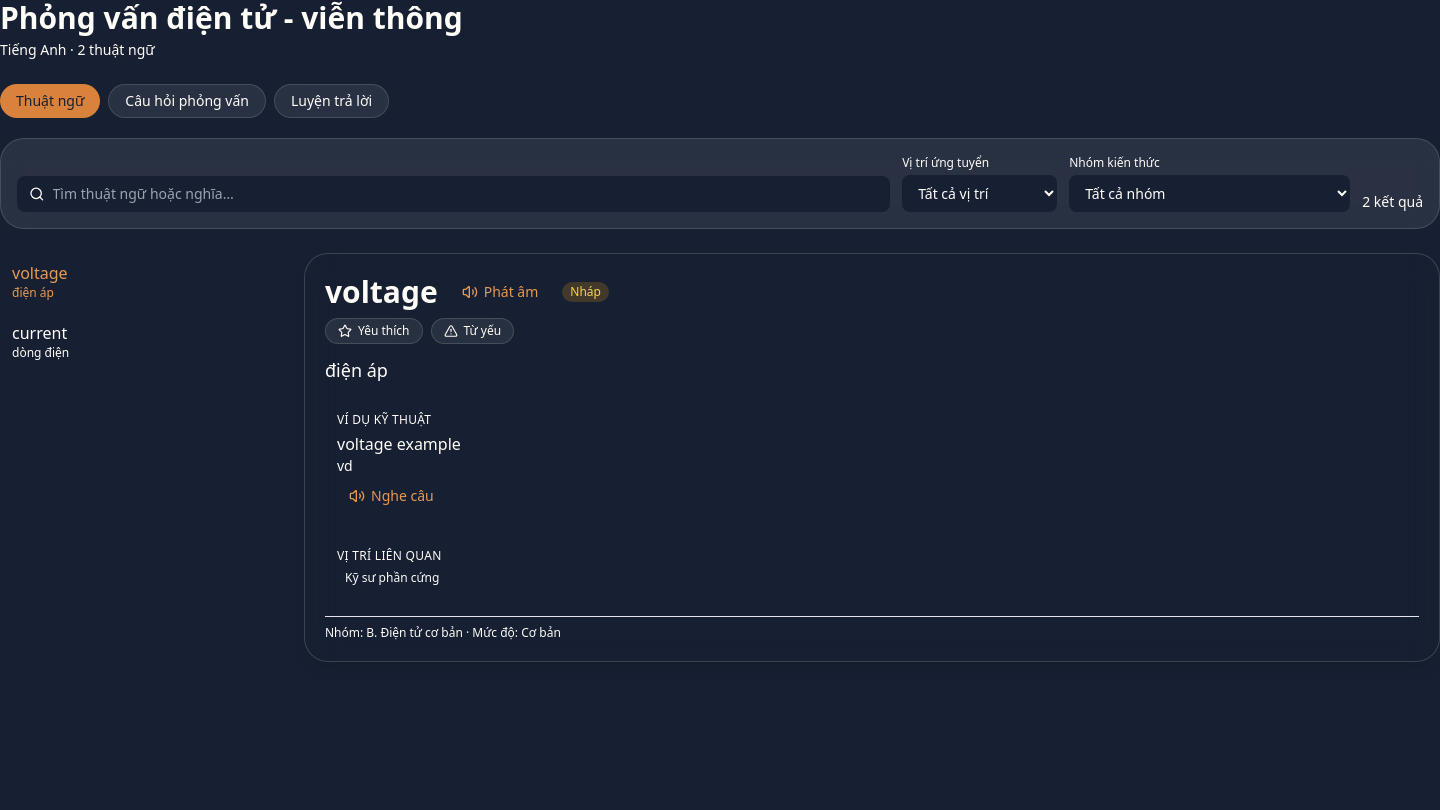
Scenario: InterviewPage — 3 tab (P1.8) › tab Câu hỏi phỏng vấn hiển thị ngân hàng câu hỏi
Click the tab "Câu hỏi phỏng vấn".
click(187, 101)  # box left=108, top=84, right=266, bottom=118
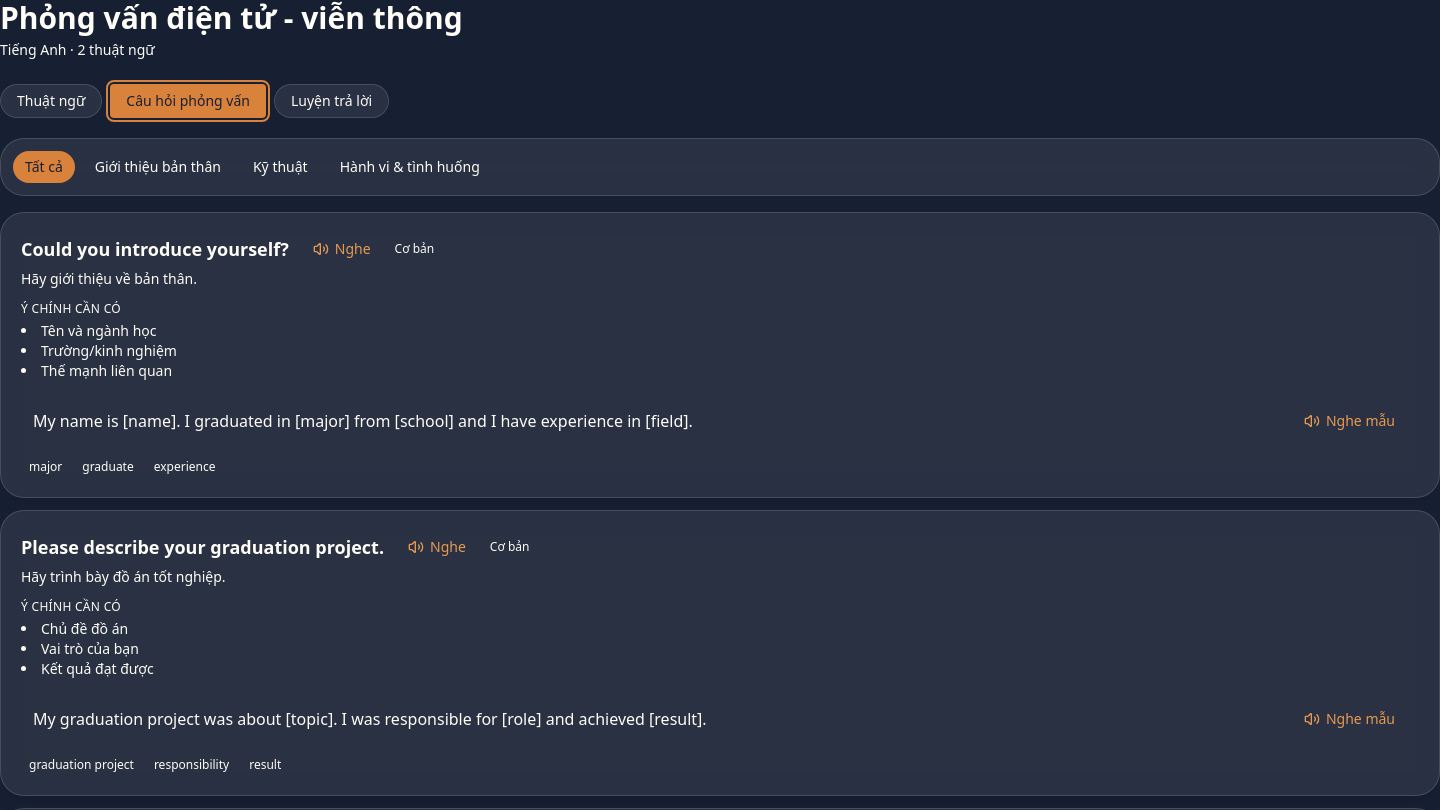
Result: the heading "Could you introduce yourself?" is shown at left=21, top=235, right=289, bottom=263
